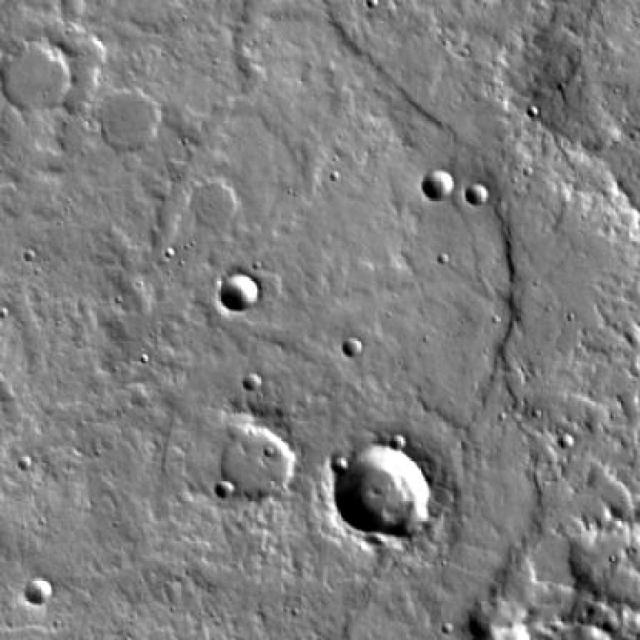crater: (338, 442, 437, 538), (223, 428, 299, 502), (0, 42, 74, 113), (95, 88, 157, 147), (192, 179, 240, 226), (217, 271, 257, 309), (423, 172, 452, 202), (26, 579, 52, 603), (466, 185, 488, 206), (214, 480, 232, 497), (242, 376, 260, 393), (332, 456, 350, 473), (346, 338, 362, 356), (388, 434, 406, 449)
